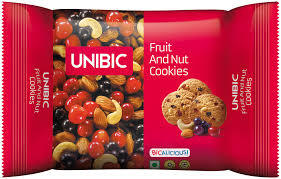VEG: (149, 160, 160, 170)
